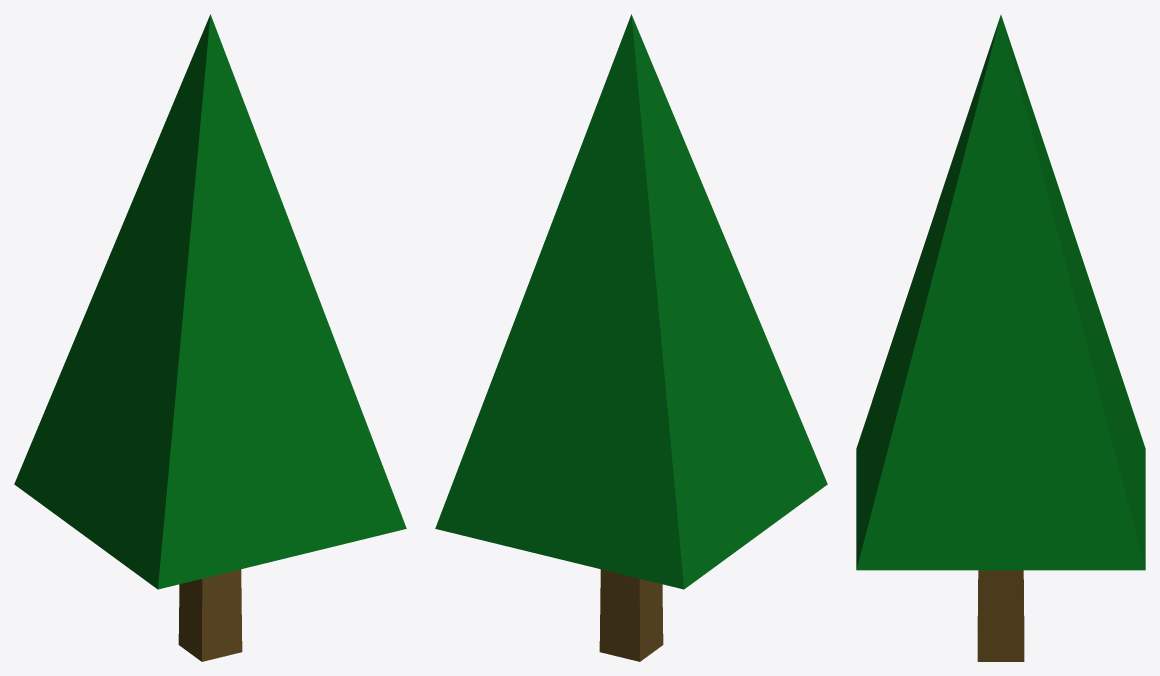
File: env_tree.fbx
3 renders of one model, left to right at view 1: azimuth 30°, elevation 25°; view 2: azimuth 150°, elevation 25°; view 3: azimuth 270°, elevation 25°, orthographic.
Parts seen in each view (by area): view 1: tree; view 2: tree; view 3: tree.
Part boxes in pixels (<box>): tree: <box>14,14,406,661</box>; tree: <box>435,14,827,661</box>; tree: <box>856,15,1145,661</box>.
Size of the model in its own units: 70.92 by 173 by 70.92.
